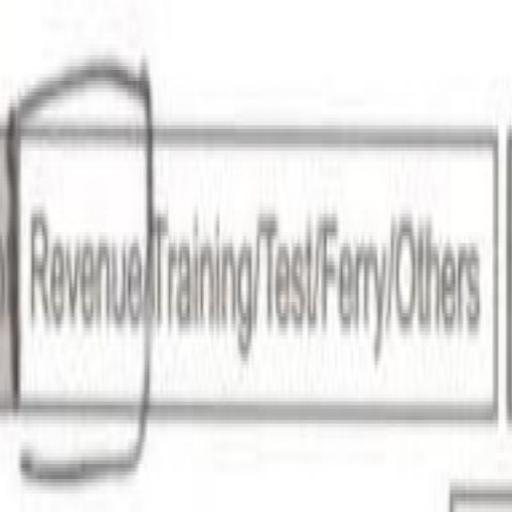check: (6, 0, 147, 512)
